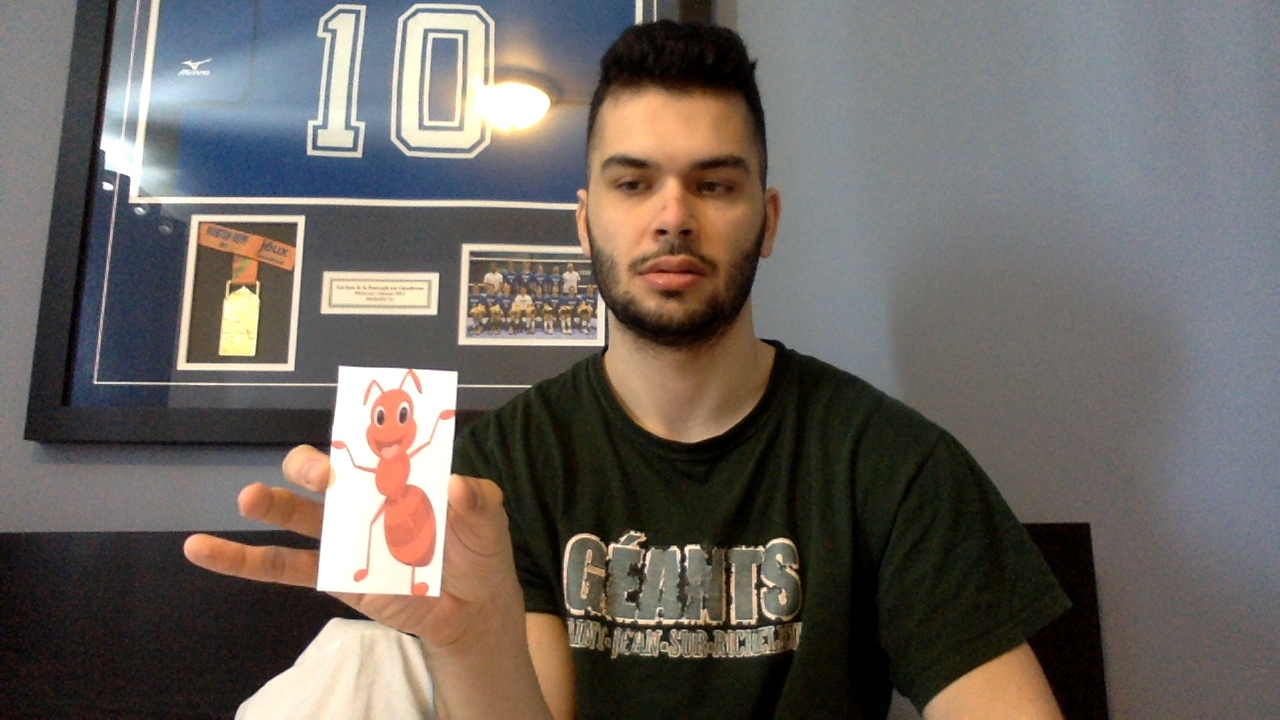Happy: (332, 368, 458, 598)
